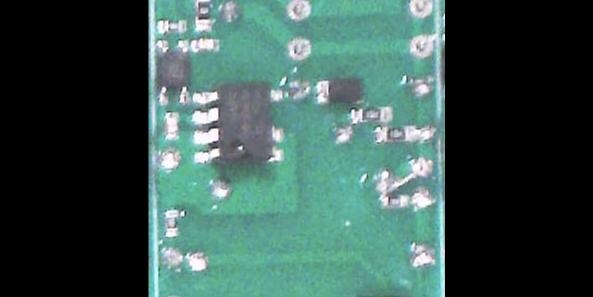chip-capacitor: (163, 111, 179, 141), (190, 36, 220, 51)
chip-resistor: (353, 107, 391, 122), (193, 0, 211, 30), (156, 18, 187, 34), (381, 126, 412, 142), (163, 207, 178, 238), (380, 194, 407, 207)
diode: (316, 77, 364, 104)
ic: (191, 82, 285, 165), (154, 38, 192, 106)
